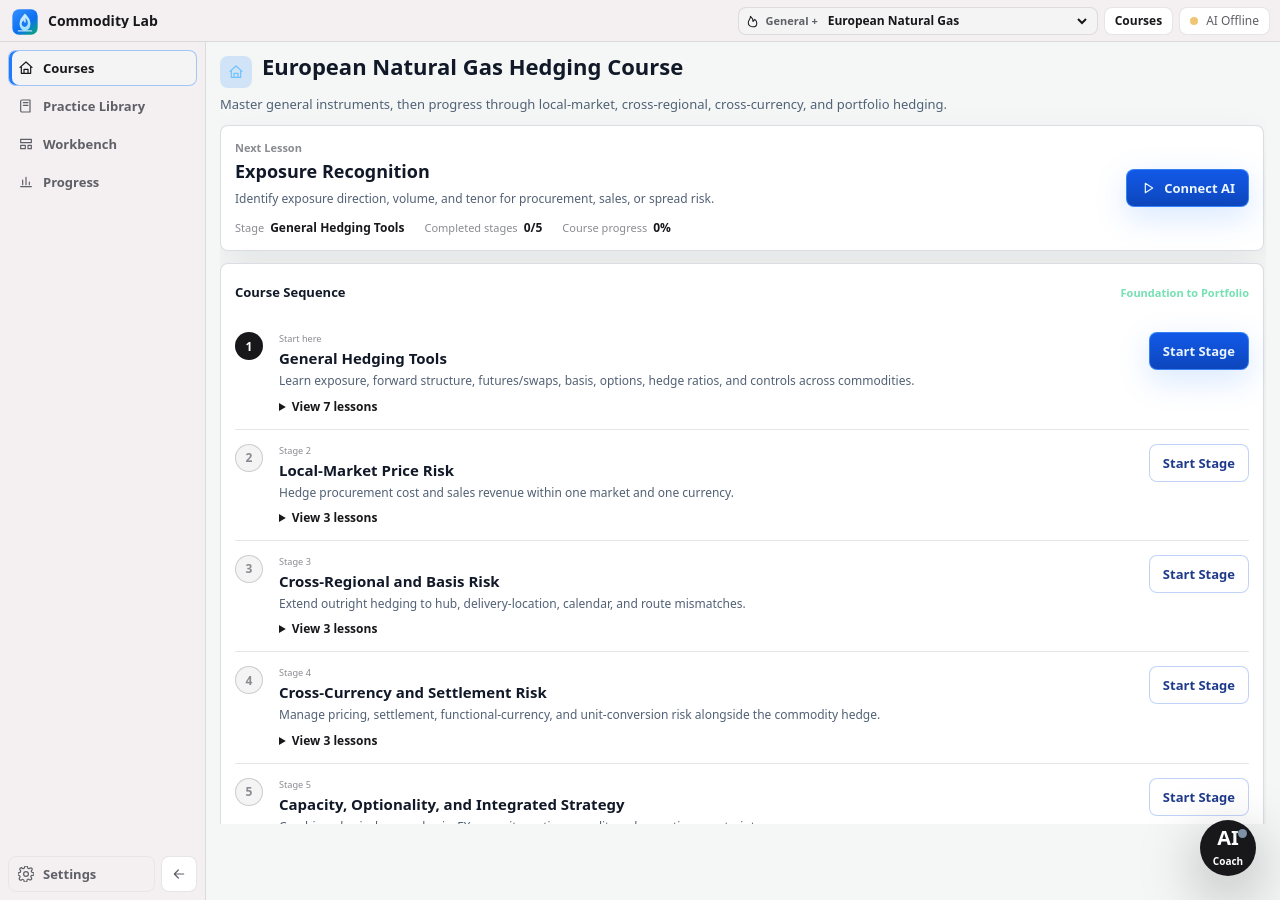
Scenario: Commodity Lab shell › keeps the DeepSeek key editable when provider validation fails
The image size is (1280, 900).
Click the button "Settings" at (82, 874), box [8,856,155,892]
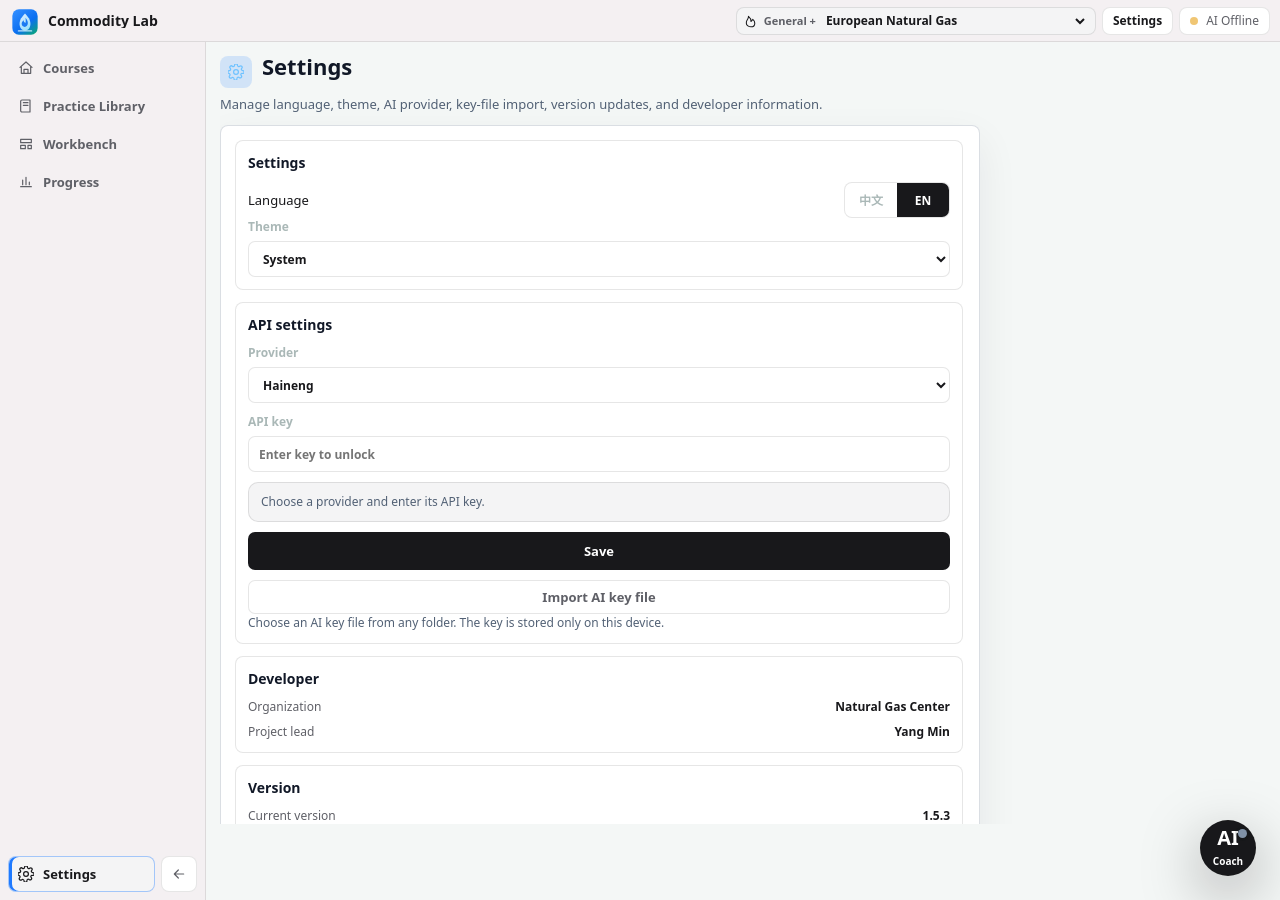
Select "DeepSeek" in the dropdown labelled "Provider" at (599, 385), box [248,367,950,403]
Type "invalid-local-secret" into the password field labelled "API key" at (599, 454), box [248,436,950,472]
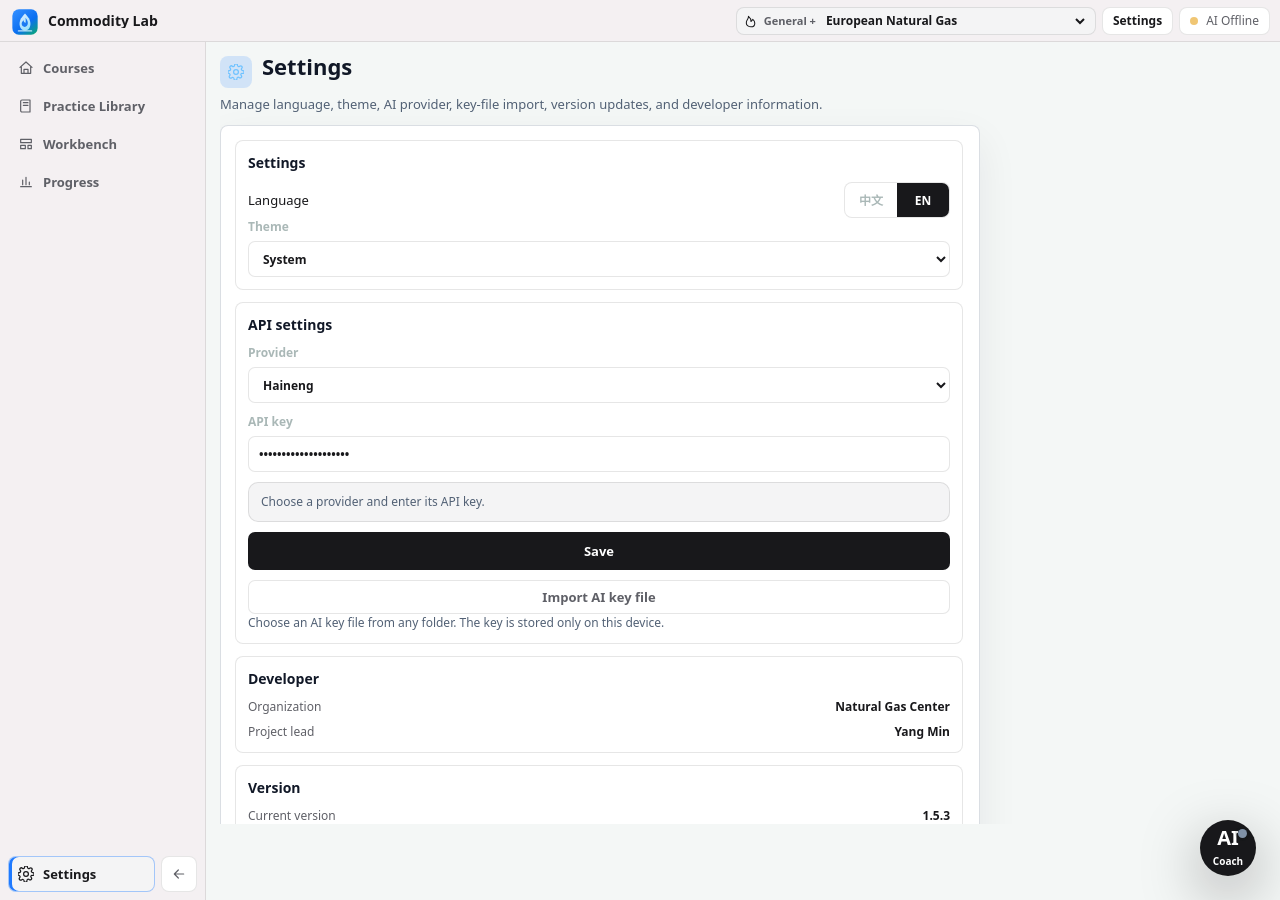
Click the button "Save" at (599, 551), box [248,532,950,570]
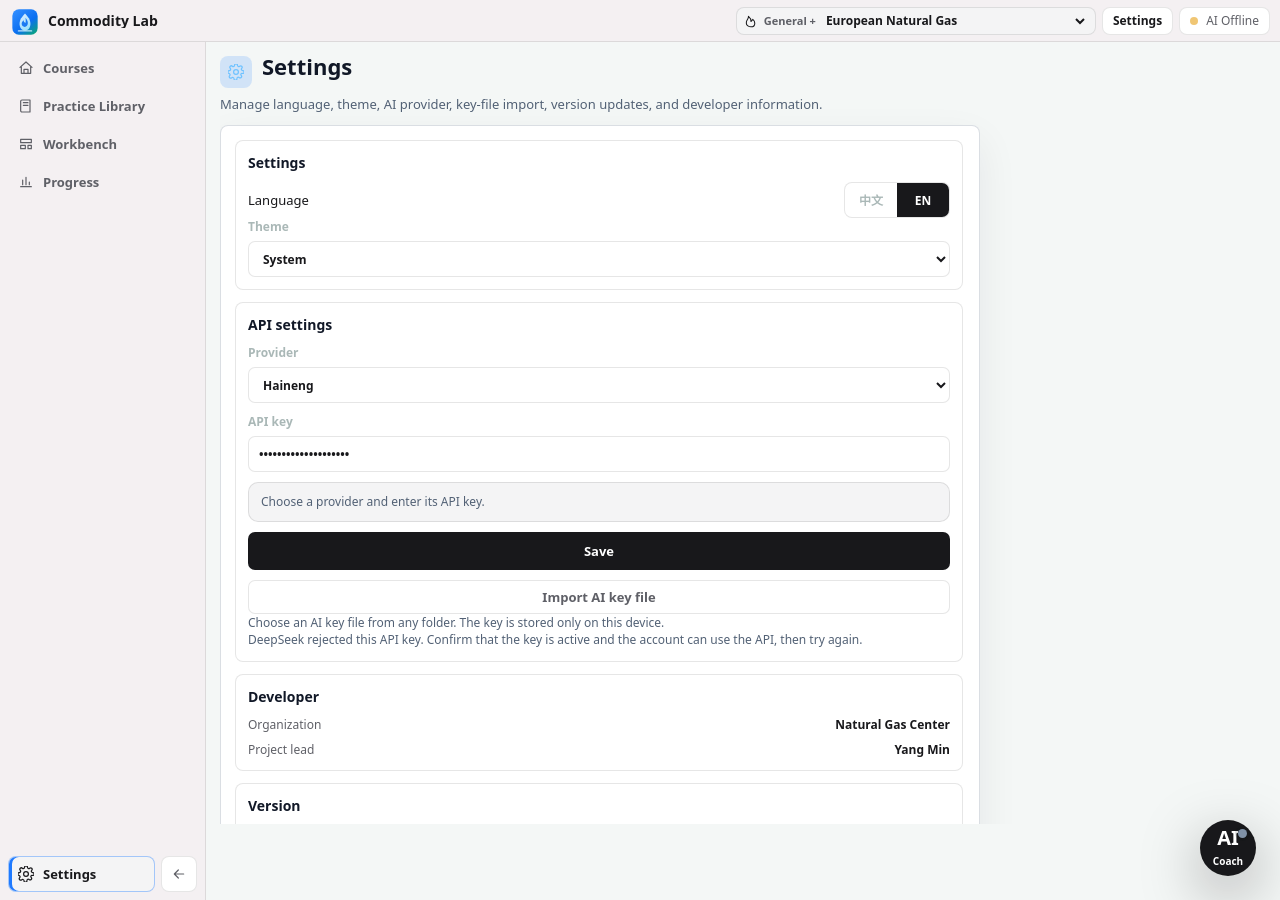
expect the text "DeepSeek rejected this API key" is shown: met, box [248,631,862,648]
